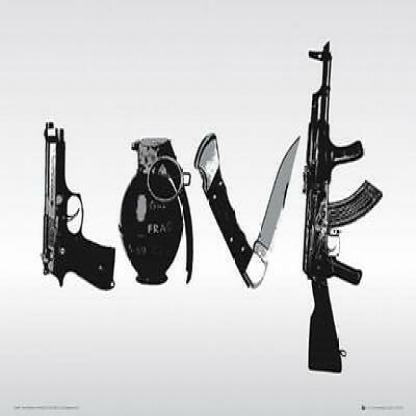Grenade: (116, 135, 196, 289)
Gun: (301, 38, 384, 374)
Knife: (193, 132, 301, 291)
Pistol: (39, 120, 116, 290)
